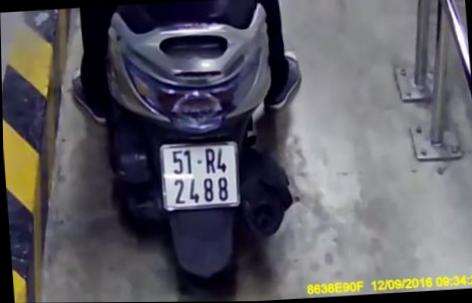LP: (156, 140, 242, 212)
